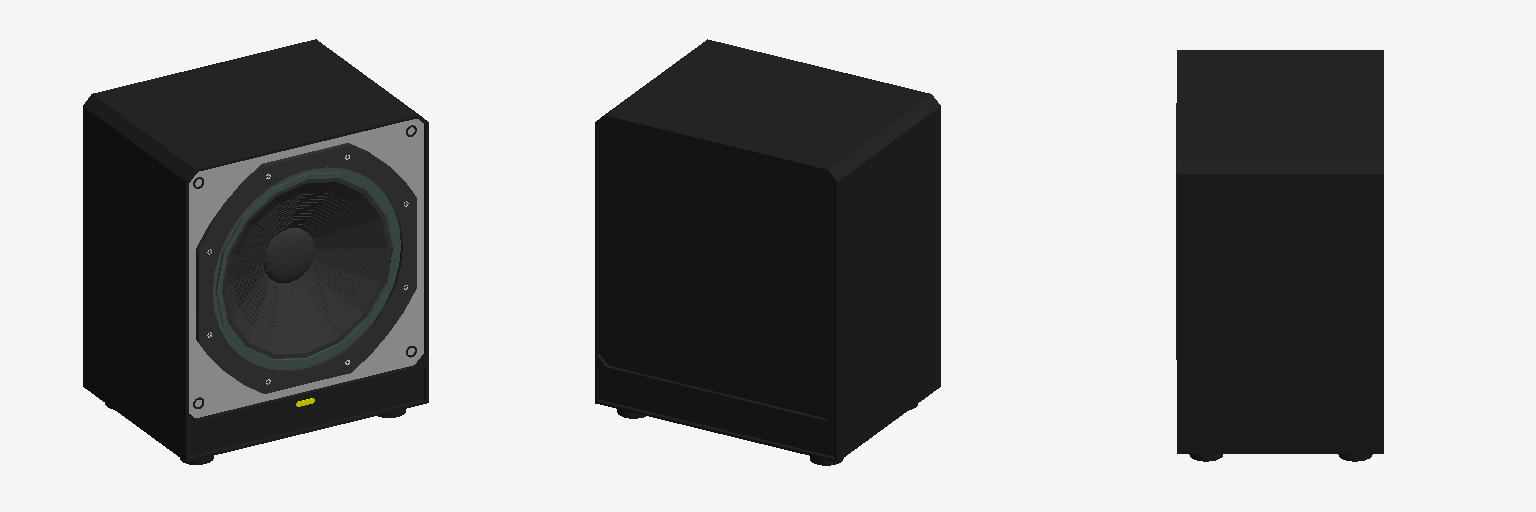
Rendered from speaker.obj.
The picture shows the model from 3 angles: view 1: azimuth 30°, elevation 25°; view 2: azimuth 150°, elevation 25°; view 3: azimuth 270°, elevation 25°; orthographic projection.
Parts seen in each view (by area): view 1: Subwoofer_body, Subwoofer_speaker, Subwoofer_speakerholder1, speakerholder_Subwoofer; view 2: Subwoofer_body; view 3: Subwoofer_body.
Part boxes in pixels (x1,y1,x2,y2): Subwoofer_body: (83,39,428,461); Subwoofer_speaker: (222,178,391,358); Subwoofer_speakerholder1: (196,143,416,393); speakerholder_Subwoofer: (213,167,400,369); Subwoofer_body: (595,39,940,461); Subwoofer_body: (1177,50,1383,453).
Bounding box in the file's own units: 5.16 × 6.16 × 3.83.